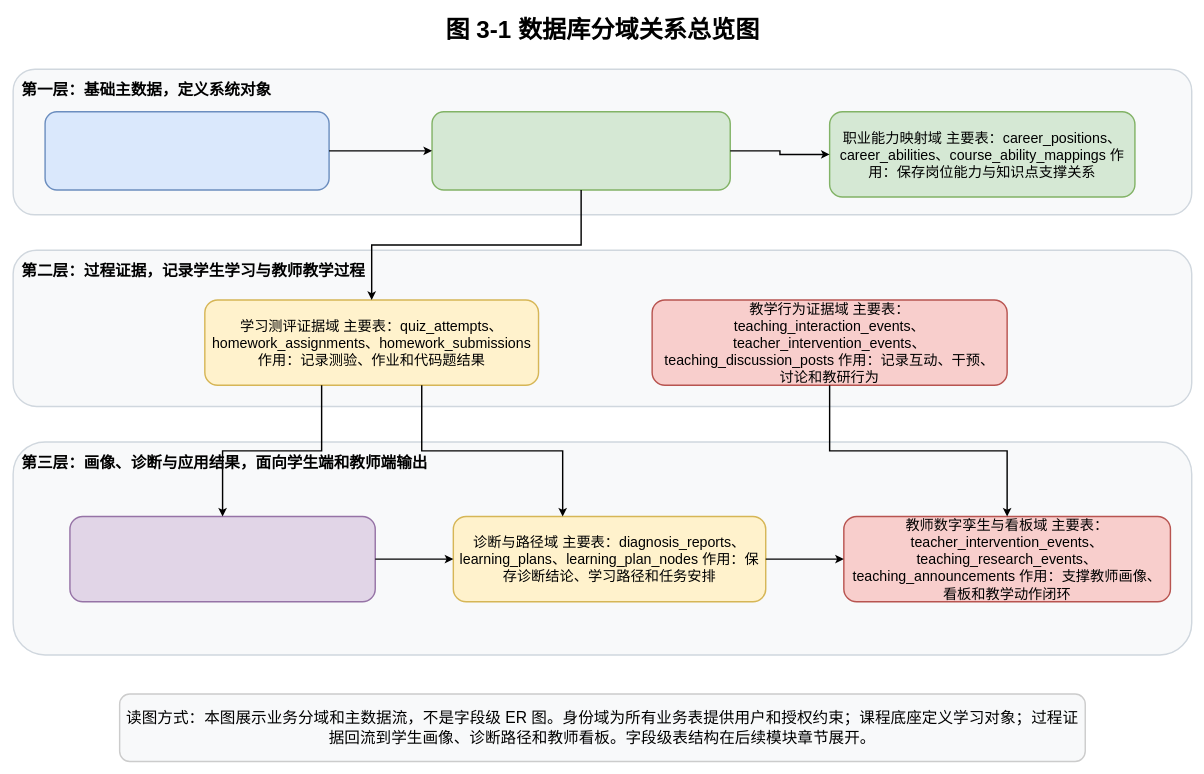
The diagram is 1204 pixels wide and 774 high, and some of its shapes have lost their labels. The shapes that lost their labels are listed below. From the top down, each one's centre as x and y in pixels, then its label:
At point (186, 150): "用户与授权域 主要表：users、sessions、teacher_student_links 作用：识别学生、教师和师生授权关系".
At point (581, 150): "课程底座域 主要表：courses、course_nodes、resources 作用：定义课程、知识点和资源归属".
At point (222, 558): "学生数字孪生域 主要表：twin_profiles、twin_profile_nodes、twin_history 作用：沉淀学生画像、知识点状态和历史快照".
